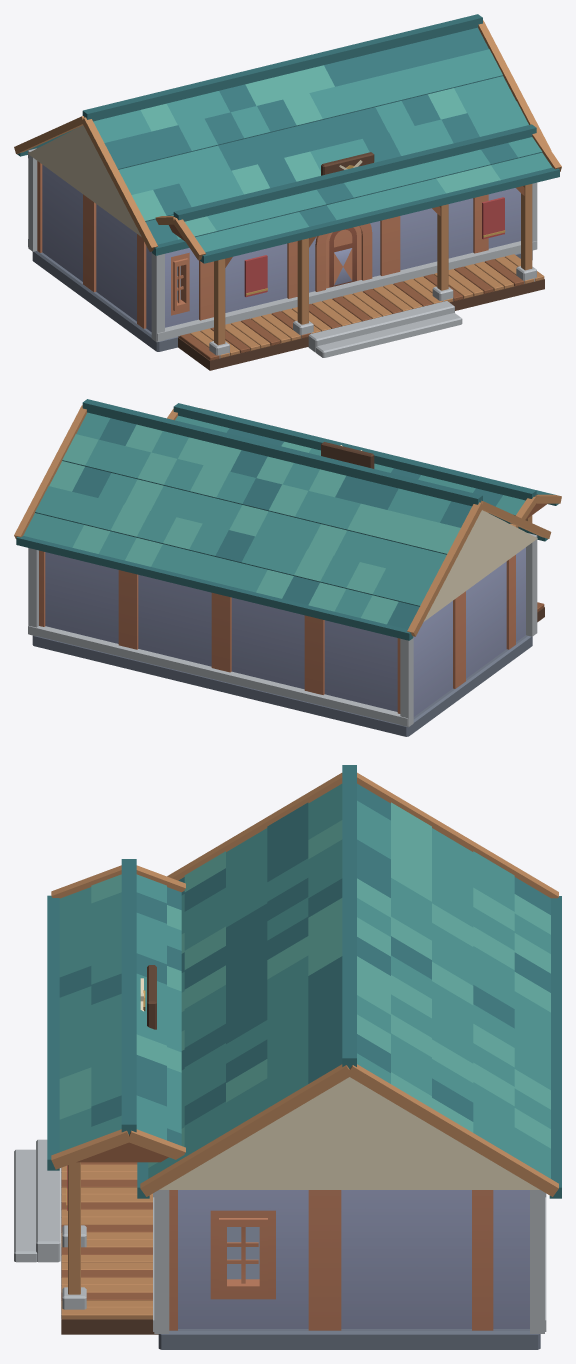
File: community_hall.glb
3 views of the same model, one above another, from view 1: azimuth 30°, elevation 25°; view 2: azimuth 150°, elevation 25°; view 3: azimuth 270°, elevation 25° (orthographic). The views are drawn at different scales.
Visible parts, largest first — view 1: community_hall_建筑共用调色板.002, community_hall_fantasy-town-kit 调色板; view 2: community_hall_建筑共用调色板.002, community_hall_fantasy-town-kit 调色板; view 3: community_hall_建筑共用调色板.002, community_hall_fantasy-town-kit 调色板.
Boxes of the visible parts, x1=… form: community_hall_建筑共用调色板.002: x1=14, y1=14, x2=561, y2=370; community_hall_fantasy-town-kit 调色板: x1=37, y1=161, x2=520, y2=331; community_hall_建筑共用调色板.002: x1=14, y1=399, x2=561, y2=736; community_hall_fantasy-town-kit 调色板: x1=39, y1=547, x2=525, y2=716; community_hall_建筑共用调色板.002: x1=14, y1=765, x2=561, y2=1349; community_hall_fantasy-town-kit 调色板: x1=169, y1=1190, x2=529, y2=1330.
Size of the model in its own units: 8.59 by 4.03 by 6.71.
2 materials, 2 textured.
